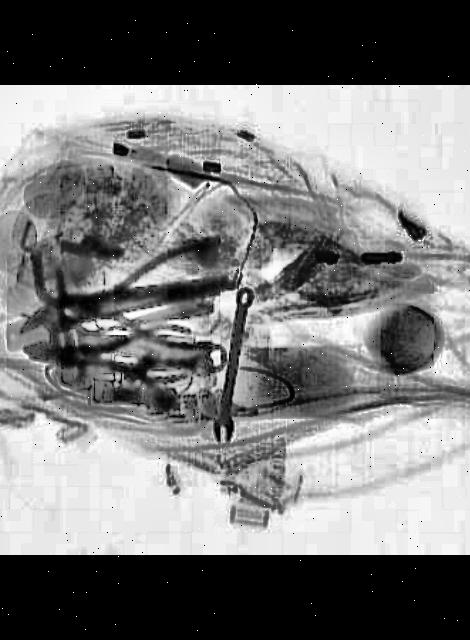Pliers: (58, 244, 228, 366)
Wrench: (14, 302, 236, 391), (212, 289, 256, 445)
